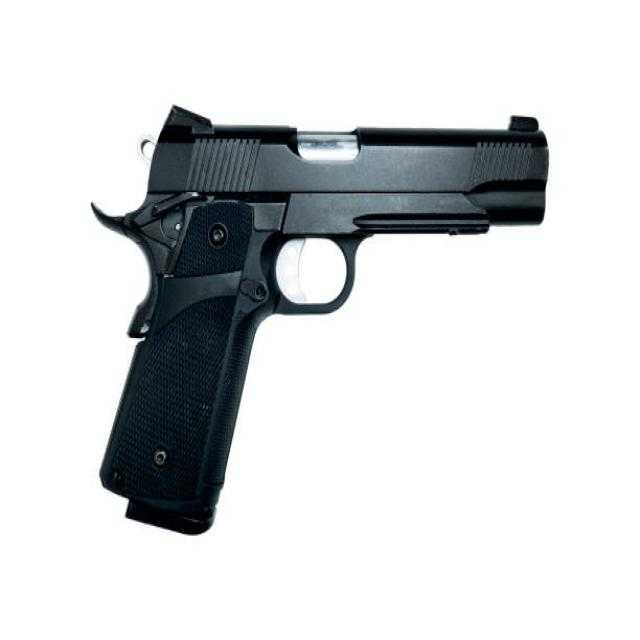pistol: (91, 102, 557, 537)
